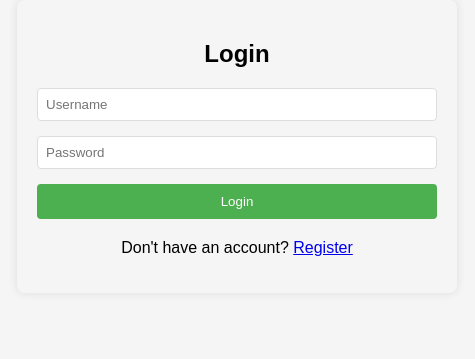
Login Page › should handle generic error
Type "testuser" into the field with placeholder "Username" at coordinates (237, 104), box [37,88,437,121]
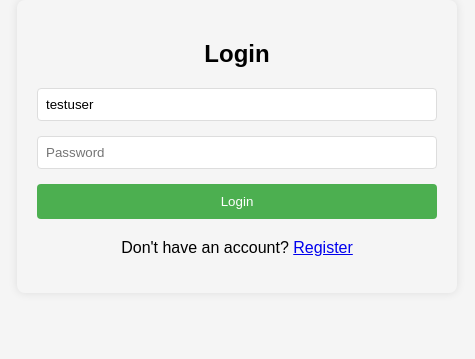
Type "password123" into the password field with placeholder "Password" at coordinates (237, 152), box [37,136,437,169]
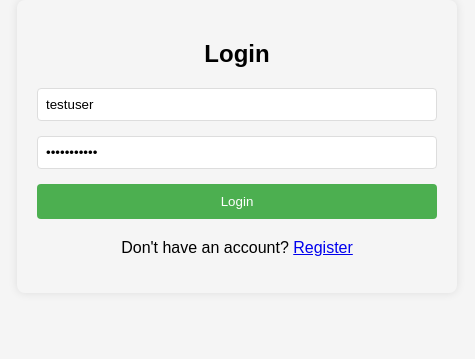
Click the button "Login" at coordinates (237, 201), box [37,184,437,219]
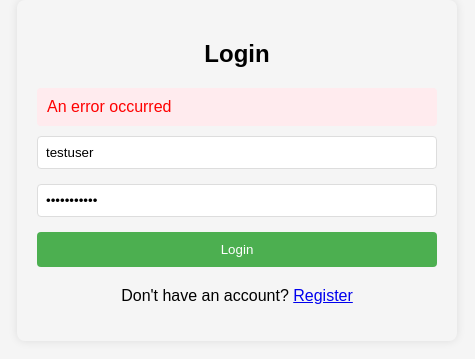
Check: the text "An error occurred" is shown, box [37,88,437,126]
